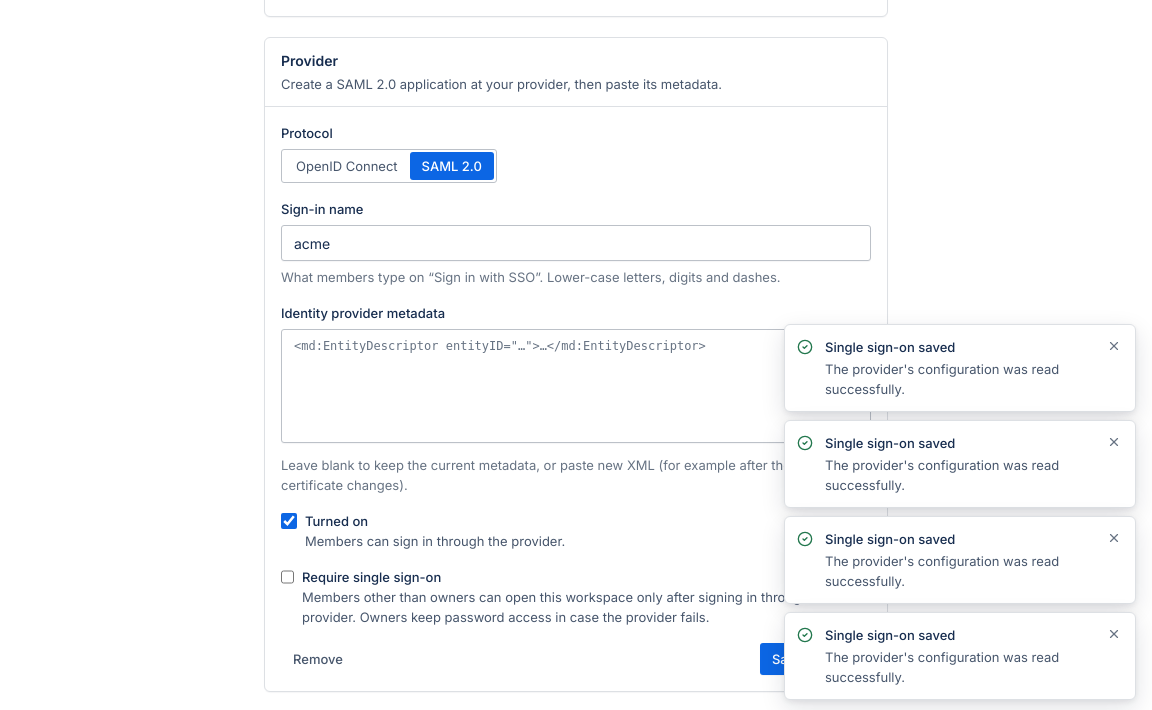
Test case: single sign-on with SAML › keeps the stored metadata when the field is left blank, and warns before switching protocol
The image size is (1152, 710).
Earlier steps of the test are not shown.
(page scrolled)
Click the radio button labelled "OpenID Connect": (347, 166) [284, 152, 410, 180]
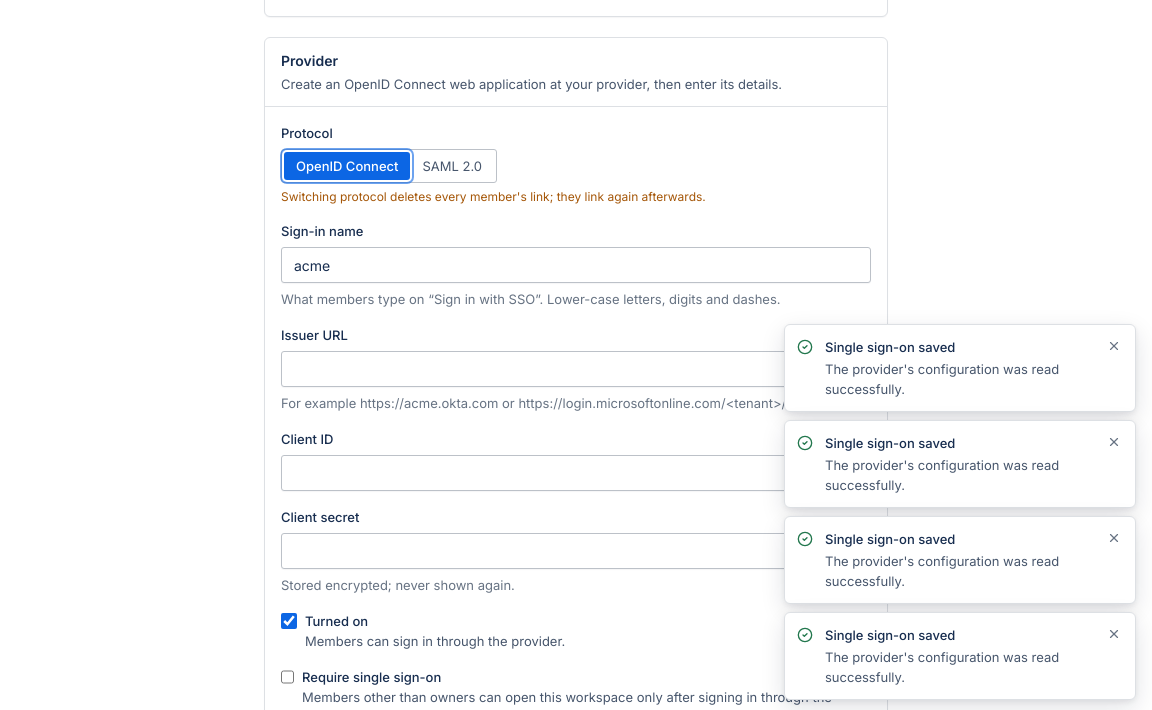
Now the text "Switching protocol deletes every member's link" is shown, box [281, 189, 706, 204]
